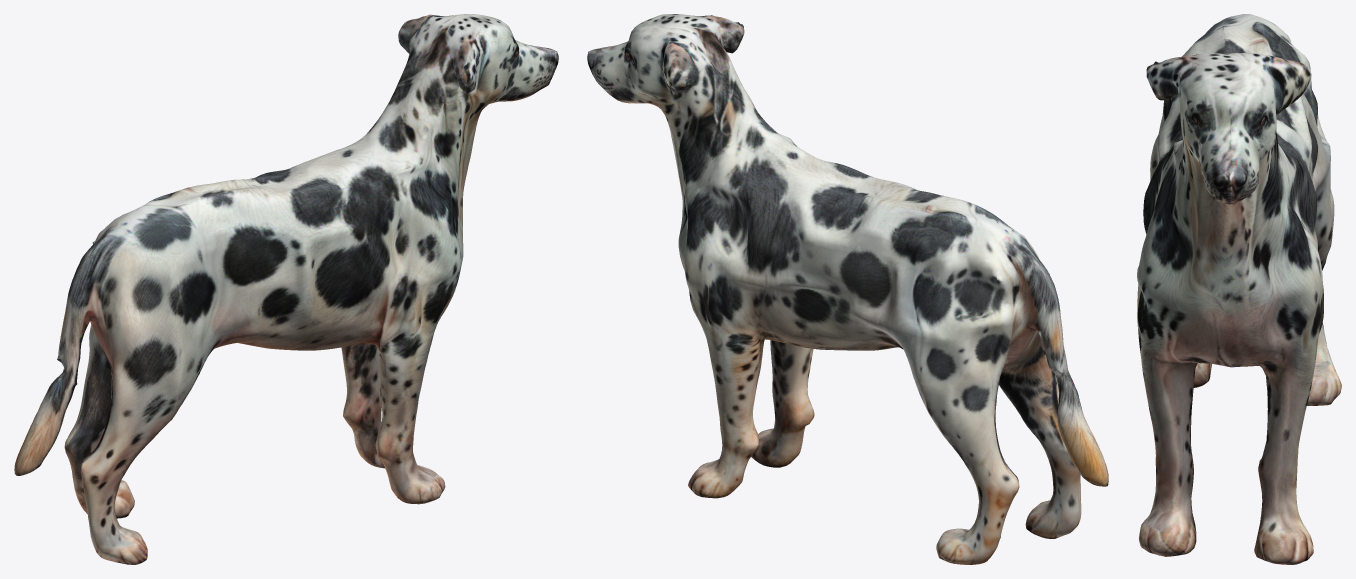
The model's file is dalmatian.glb.
The picture shows the model from 3 angles, left to right: view 1: azimuth 30°, elevation 25°; view 2: azimuth 150°, elevation 25°; view 3: azimuth 270°, elevation 25°; orthographic projection. The views are drawn at different scales.
Bounding box in the file's own units: 1.2 × 0.957 × 0.3327.
Materials: 1 (1 with a texture image).
